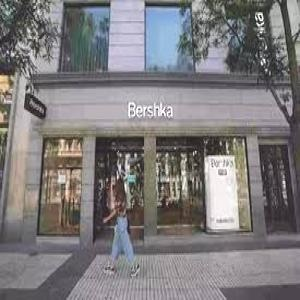bershka: (112, 49, 238, 147)
